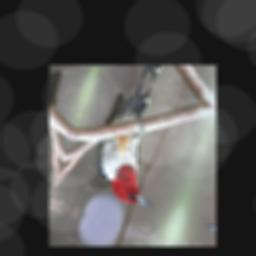Woodpecker: (82, 75, 190, 212)
